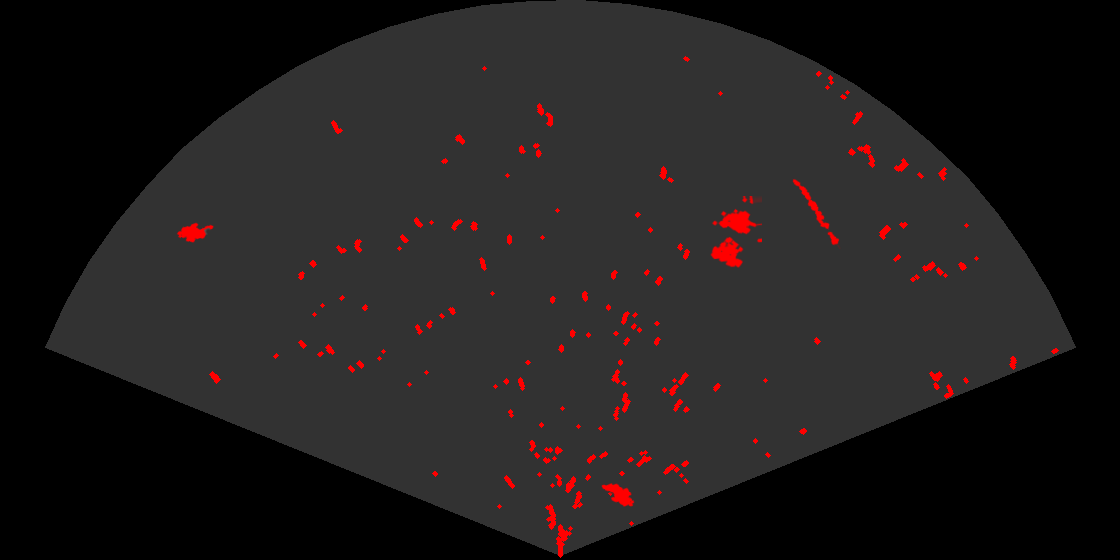AUV: (175, 221, 216, 244), (600, 482, 636, 508)
cage: (709, 196, 762, 269)
chain: (791, 177, 842, 249)
